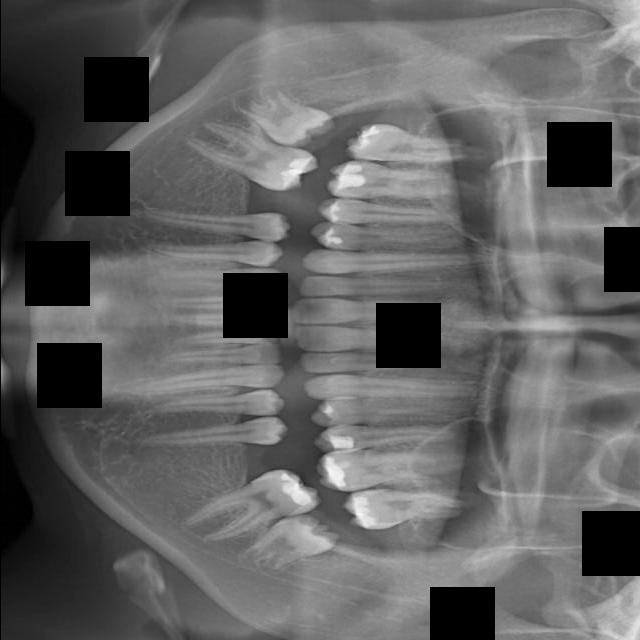AGS Medikal Implant: (243, 508, 244, 509)
Amalgam filling: (341, 117, 491, 173)
Anthogyr Implant: (137, 416, 291, 448)
Bicon Implant: (132, 389, 287, 421)
BioHorizons Implant: (117, 363, 286, 395)
BioLife Implant: (149, 343, 283, 368)
Biomet 3i Implant: (159, 326, 280, 351)
Blue Sky Bio Implant: (161, 310, 283, 329)
Camlog Implant: (150, 290, 282, 314)
Caries: (296, 347, 478, 374)
Composite filling: (135, 267, 284, 294)
Cowellmedi Implant: (136, 231, 287, 269)
Crown: (134, 193, 294, 244)
DENTSPLY Implant: (319, 156, 459, 210)
Dentis Implant: (175, 110, 325, 205)
Dentium Implant: (222, 68, 341, 164)
Euroteknika Implant: (309, 196, 464, 234)
Filling: (303, 219, 467, 256)
Frontier Implant: (299, 248, 508, 280)
Hiossen Implant: (300, 374, 505, 401)
Implant: (288, 298, 474, 324)
Implant Direct: (294, 273, 470, 296)
Keystone Dental Implant: (294, 326, 486, 352)
MIS Implant: (307, 396, 492, 428)
Mandible: (307, 419, 463, 453)
Maxilla: (313, 439, 470, 495)
Megagen Implant: (338, 477, 471, 536)
Neoss Implant: (225, 500, 347, 586)
